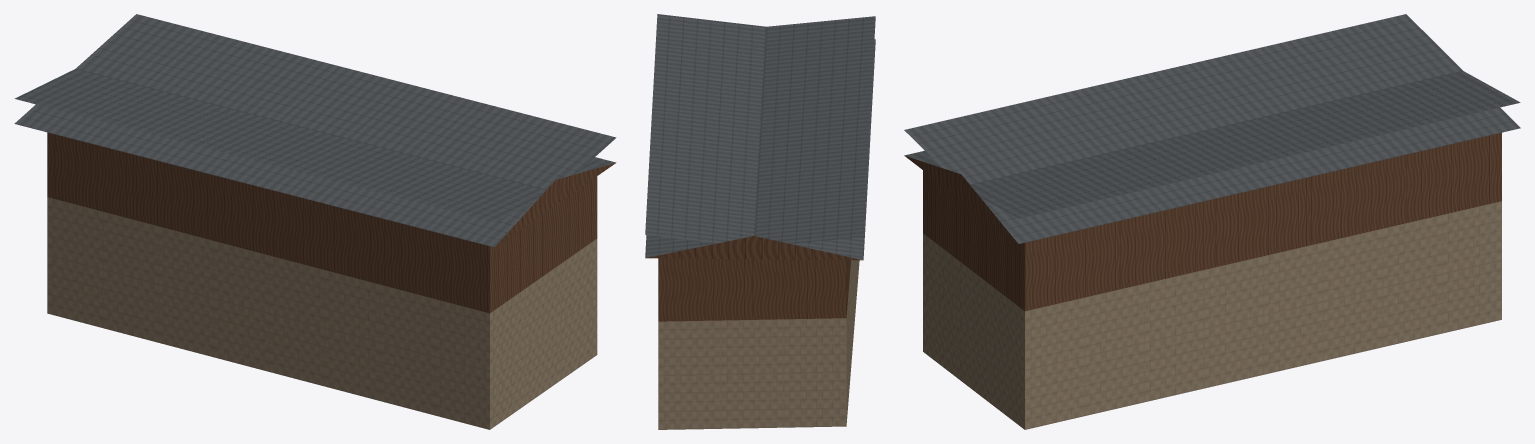
The model's file is bld_c42_48_189.gltf.
The picture shows the model from 3 angles, left to right: view 1: azimuth 30°, elevation 25°; view 2: azimuth 150°, elevation 25°; view 3: azimuth 270°, elevation 25°; orthographic projection. The views are drawn at different scales.
Parts seen in each view (by area): view 1: bld_c42_48_189; view 2: bld_c42_48_189; view 3: bld_c42_48_189.
Boxes of the visible parts, box(x1,y1,x2,y2) form: bld_c42_48_189: box(14, 14, 616, 429); bld_c42_48_189: box(645, 14, 875, 429); bld_c42_48_189: box(904, 14, 1520, 429).
Bounding box in the file's own units: 17.2 × 8.6 × 21.91.
Materials: 4 (4 with a texture image).
